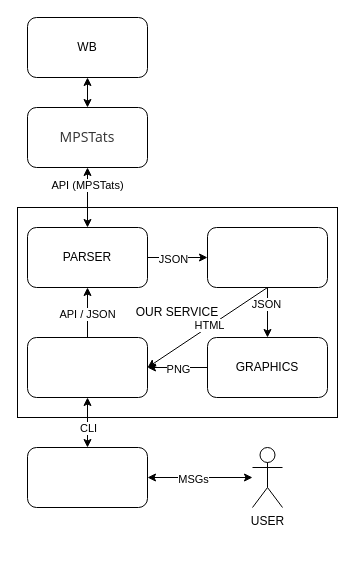
Some shapes in this 355 by 561 pixel diagram are drawn without their labels. The box of each missing label's shape, as (x1, y1, x2, y2) in pixels:
ANALIZER: (206, 226, 328, 288)
TELEGRAM: (26, 446, 148, 508)
TG BOT: (26, 336, 148, 398)
